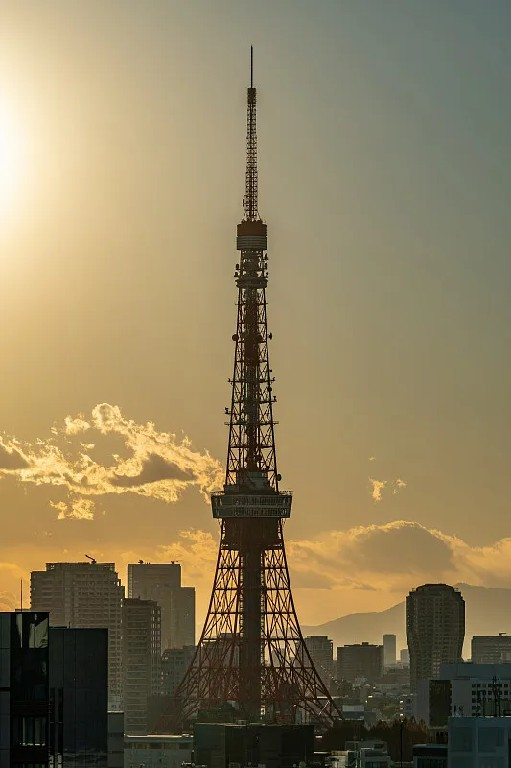Tokyo: (159, 40, 346, 731)
